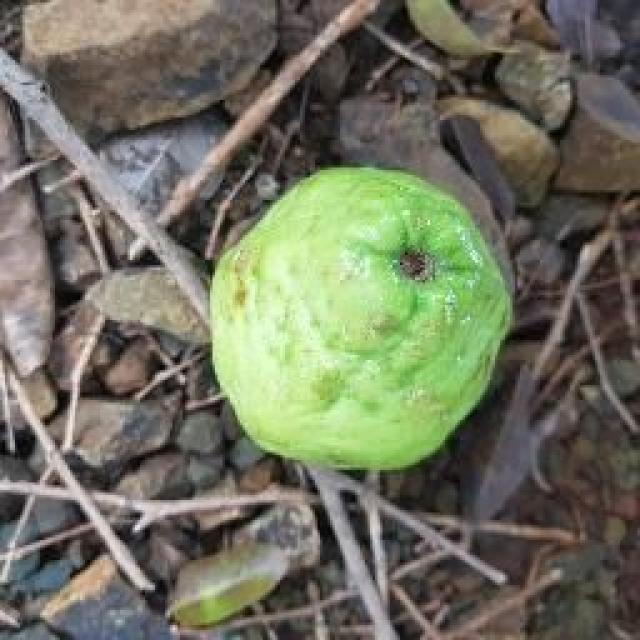Good_Guava: (208, 168, 515, 472)
